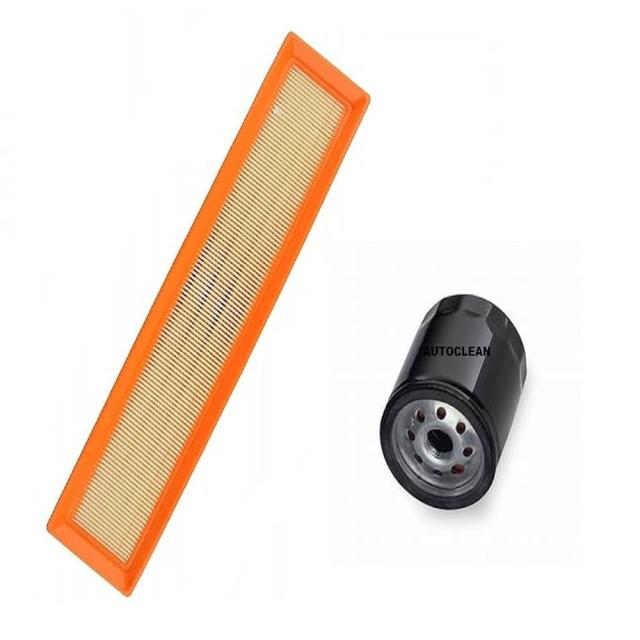air_filter: (40, 27, 376, 605)
oil_filter: (372, 286, 535, 515)
